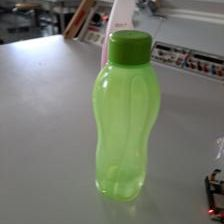bottle: (91, 28, 163, 198)
